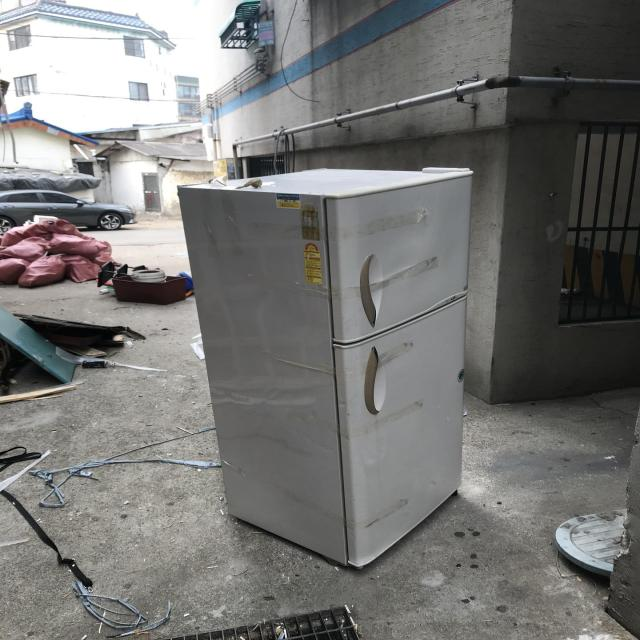refrigerator: (168, 160, 479, 572)
